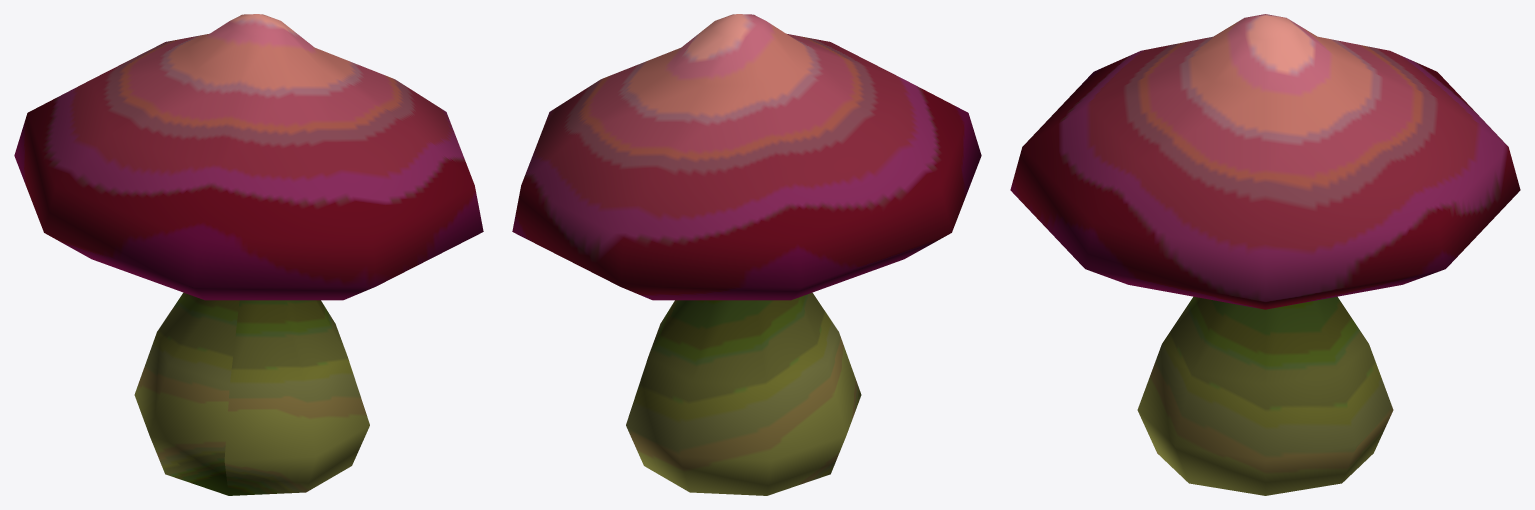
Rendered from Sieni_Tatti_Pieni.FBX.
3 views of the same model, side by side, from view 1: azimuth 30°, elevation 25°; view 2: azimuth 150°, elevation 25°; view 3: azimuth 270°, elevation 25° (orthographic).
Visible parts, largest first — view 1: Sieni_Tatti_Pieni; view 2: Sieni_Tatti_Pieni; view 3: Sieni_Tatti_Pieni.
Part boxes in pixels (box(x1,y1,x2,y2)): Sieni_Tatti_Pieni: box(14, 14, 483, 495); Sieni_Tatti_Pieni: box(512, 14, 981, 495); Sieni_Tatti_Pieni: box(1010, 14, 1520, 495).
Bounding box in the file's own units: 33.89 × 36.17 × 36.36.
